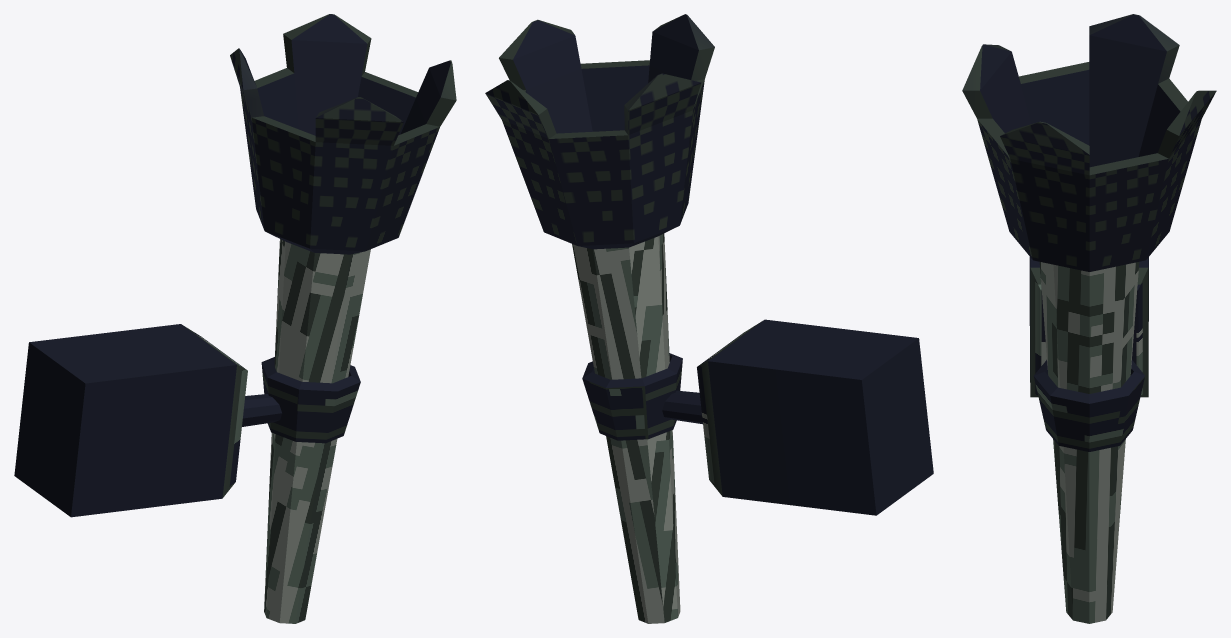
Rendered from SM_Torch.fbx.
The picture shows the model from 3 angles, left to right: view 1: azimuth 30°, elevation 25°; view 2: azimuth 150°, elevation 25°; view 3: azimuth 270°, elevation 25°; orthographic projection. The views are drawn at different scales.
Parts seen in each view (by area): view 1: SM_Torch; view 2: SM_Torch; view 3: SM_Torch.
Boxes of the visible parts, <box> form: SM_Torch: <box>14,14,456,623</box>; SM_Torch: <box>485,14,933,623</box>; SM_Torch: <box>962,14,1216,623</box>.
Size of the model in its own units: 60.88 by 81.01 by 31.78.
